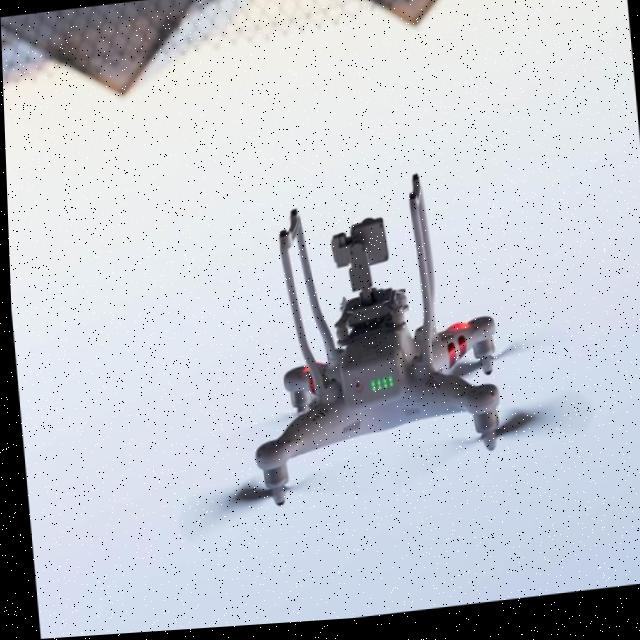drones: (153, 109, 615, 563)
